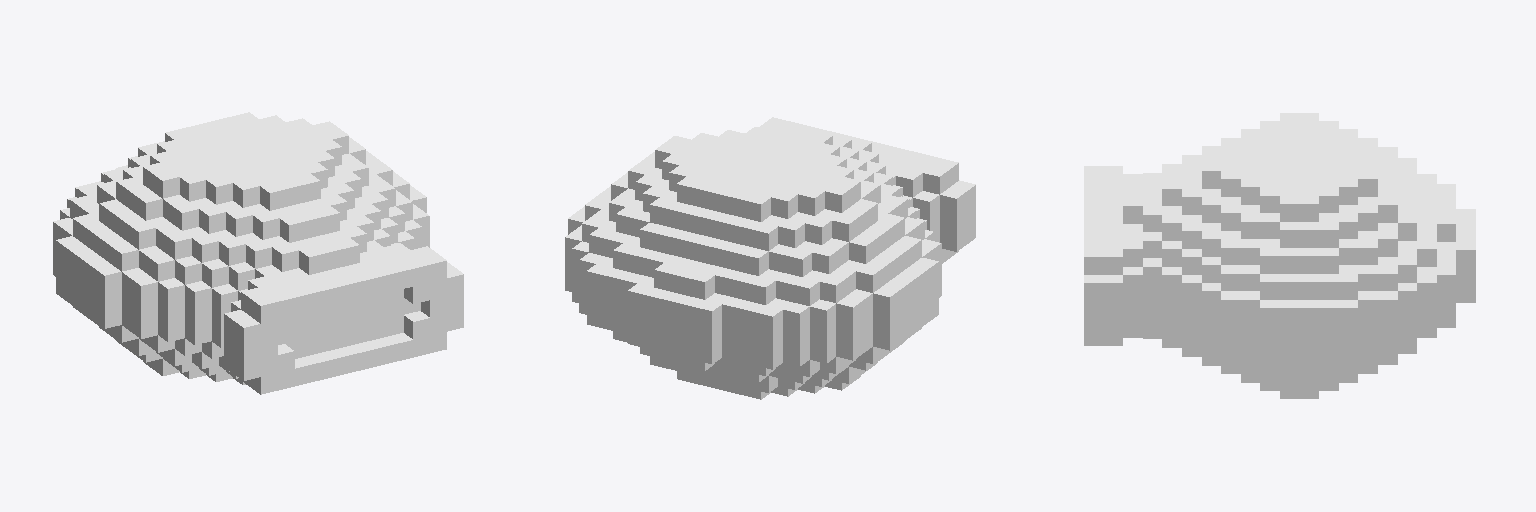
The model's file is obj.shell.obj.
The picture shows the model from 3 angles: view 1: azimuth 30°, elevation 25°; view 2: azimuth 150°, elevation 25°; view 3: azimuth 270°, elevation 25°; orthographic projection.
Parts seen in each view (by area): view 1: object 1; view 2: object 1; view 3: object 1.
Part boxes in pixels (left/top/right/bottom): object 1: left=53, top=112, right=463, bottom=394; object 1: left=565, top=117, right=975, bottom=399; object 1: left=1084, top=113, right=1475, bottom=398.
Size of the model in its own units: 1.9 by 1.1 by 2.